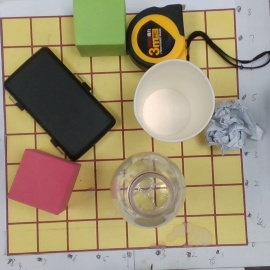bottle: (111, 152, 188, 228)
cup: (131, 59, 216, 142)
